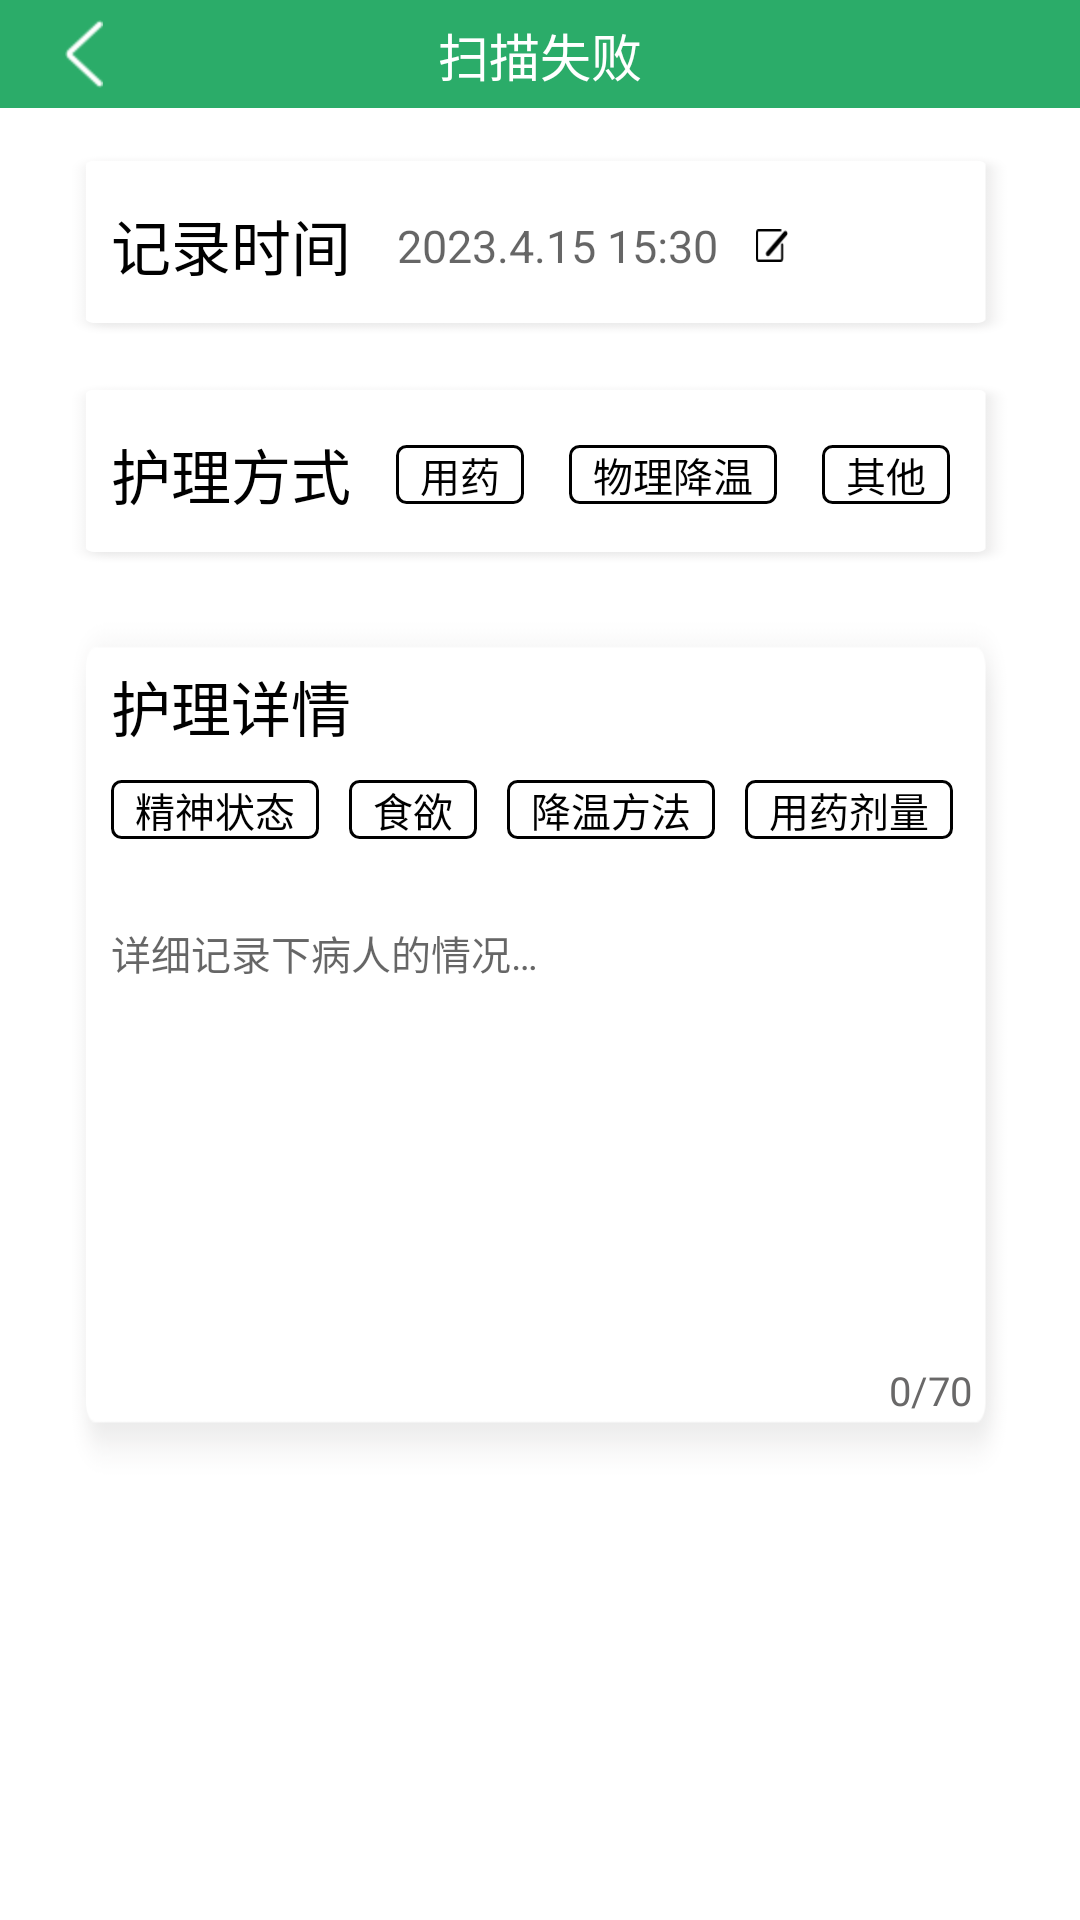

Icon click points for this 1080px x 1920px phone screenshot, format point (x, y):
back: point (84, 54)
record: point (772, 245)
